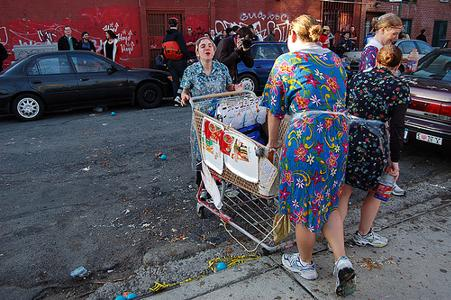person: (259, 14, 358, 299)
